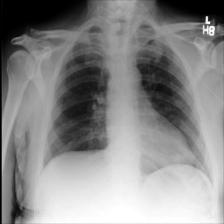normal: (41, 20, 216, 190)
